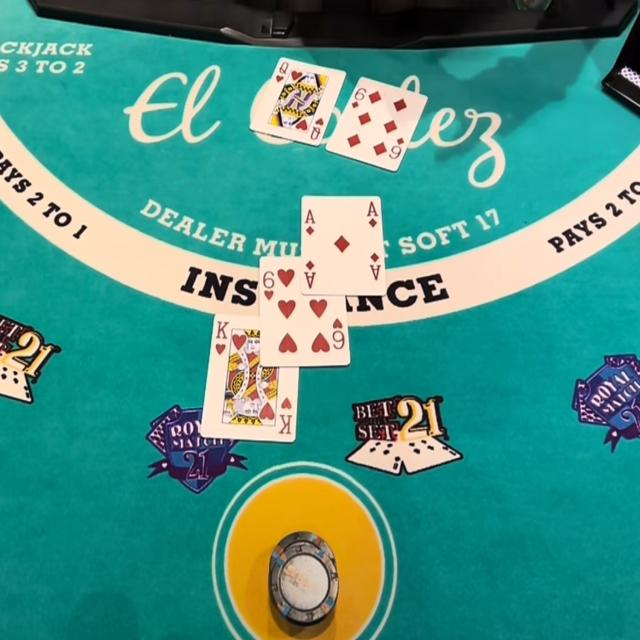6: (262, 268, 276, 290), (354, 86, 367, 101)
A: (304, 205, 318, 225)
K: (214, 318, 230, 341)
Q: (278, 60, 290, 75)
